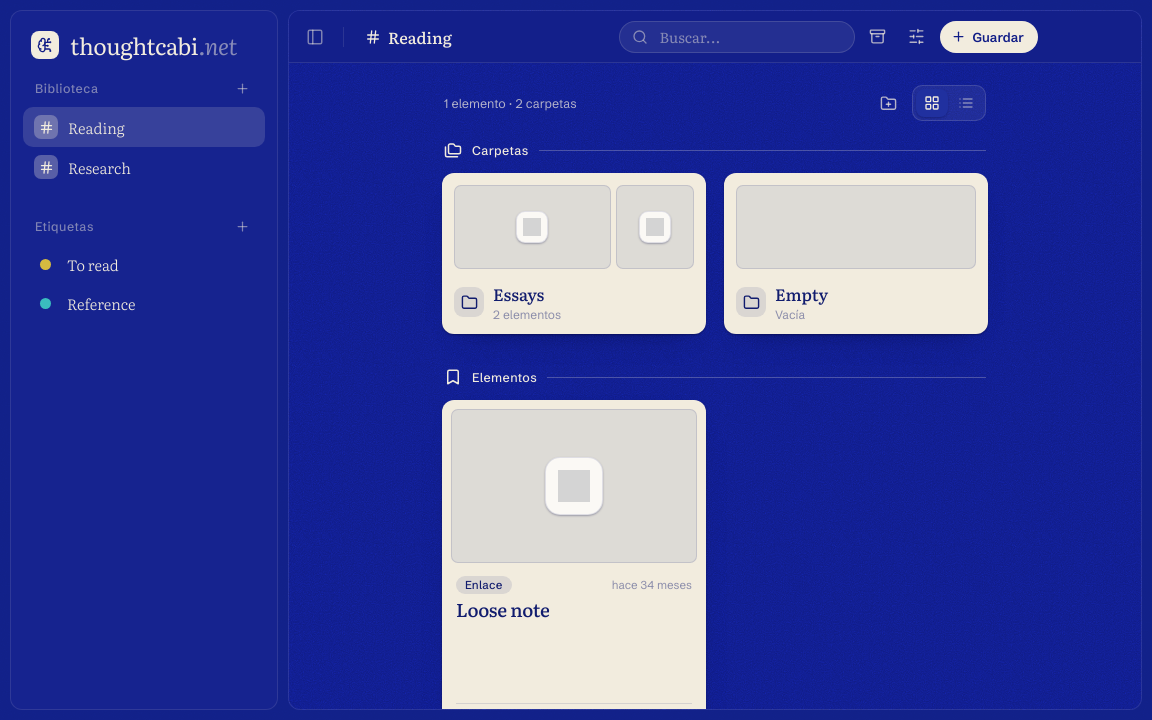
Test case: the app in Spanish › writes the transfer dialog and its refusals in Spanish
Click the button named "Tu gabinete". click: (878, 36)
box: [862,20,894,52]
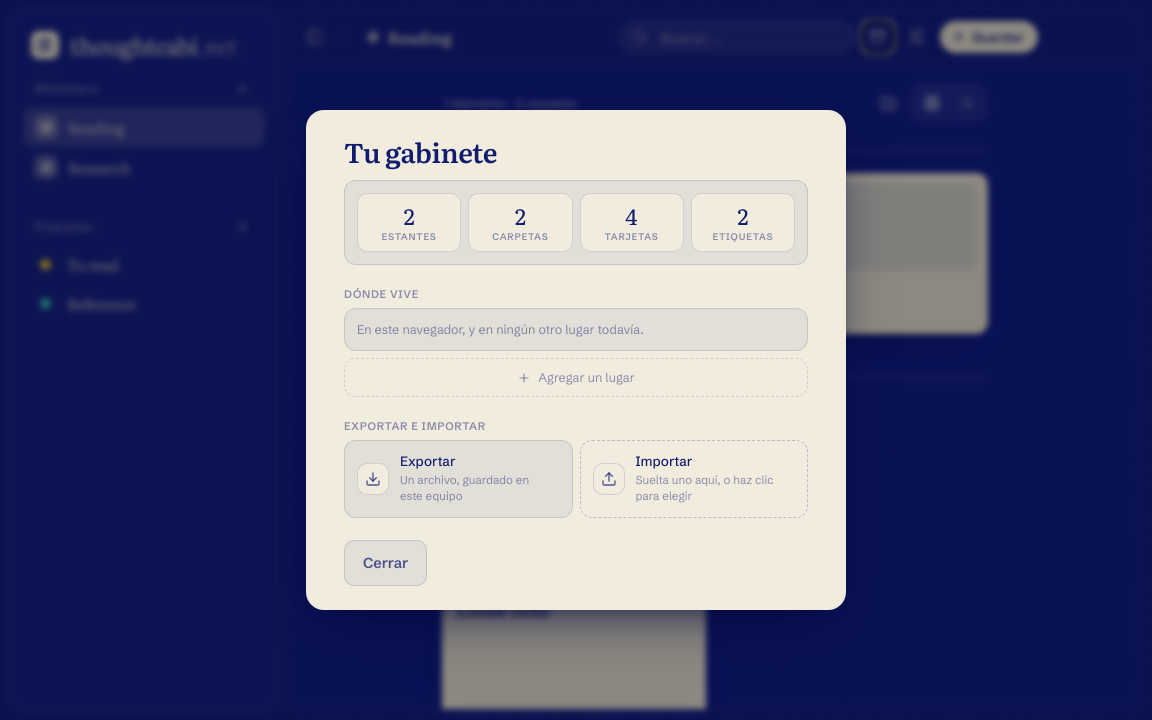
Check: the heading "Tu gabinete" is shown, box [344,132,497,172]
Check: the text "Dónde vive" is shown, box [344,287,419,301]
Check: the text "Suelta uno aquí, o haz clic para elegir" is shown, box [636,472,795,504]
